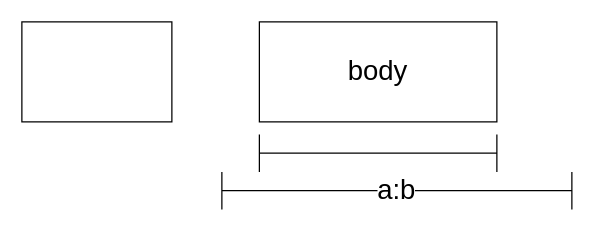
This 594x231 diagram has some shape labels left out. Each missing label, with the centre of its shape:
c:d: the point at 377,152
Phase: the point at 96,71
